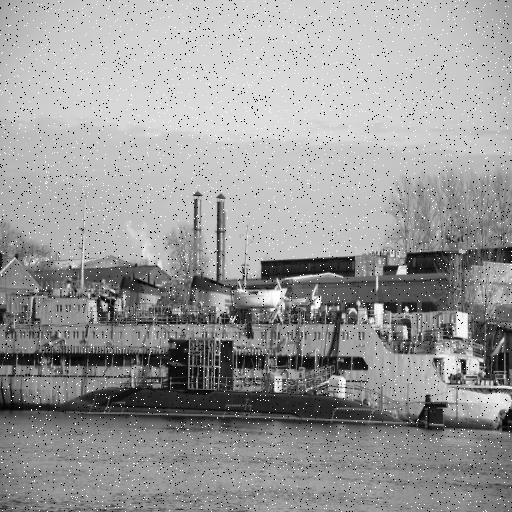submarine: (56, 390, 452, 420)
